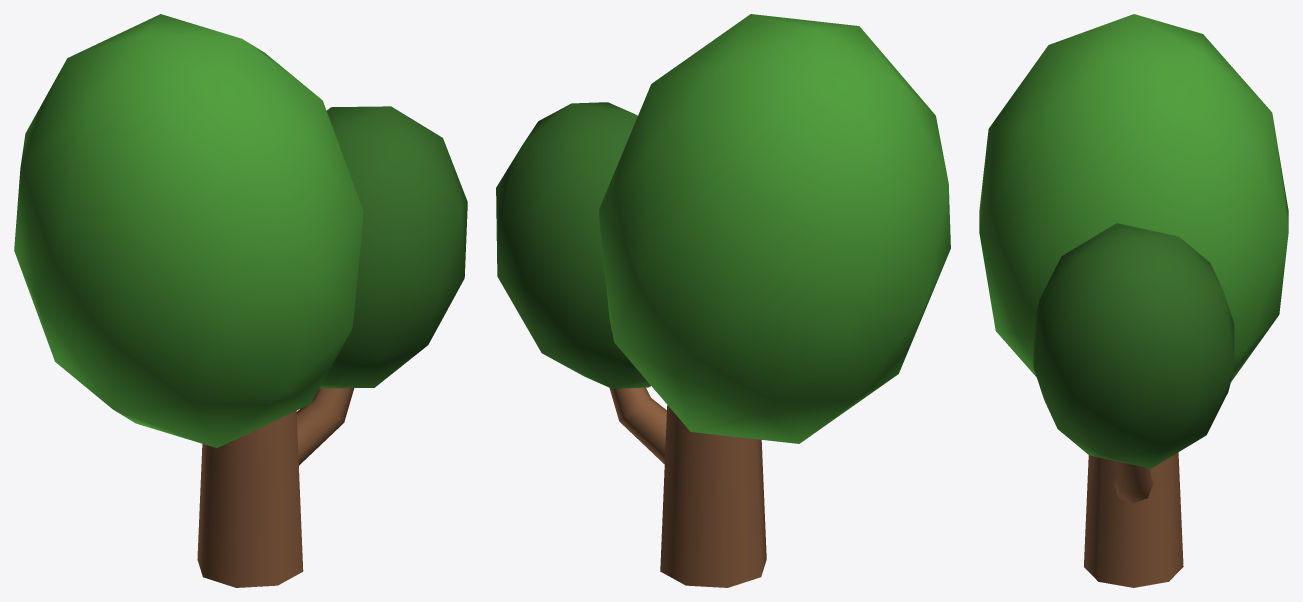
File: Tree-1.fbx
The picture shows the model from 3 angles, left to right: view 1: azimuth 30°, elevation 25°; view 2: azimuth 150°, elevation 25°; view 3: azimuth 270°, elevation 25°; orthographic projection. The views are drawn at different scales.
Visible parts, largest first — view 1: Icosphere.335, Icosphere.336, Cylinder.334, Cylinder.335; view 2: Icosphere.335, Icosphere.336, Cylinder.334, Cylinder.335; view 3: Icosphere.335, Icosphere.336, Cylinder.334, Cylinder.335.
Boxes of the visible parts, x1,y1,x2,y2 form: Icosphere.335: [14, 14, 363, 447]; Icosphere.336: [319, 106, 467, 388]; Cylinder.334: [197, 411, 303, 587]; Cylinder.335: [296, 388, 354, 465]; Icosphere.335: [599, 14, 950, 443]; Icosphere.336: [496, 102, 650, 388]; Cylinder.334: [660, 405, 766, 587]; Cylinder.335: [609, 387, 666, 463]; Icosphere.335: [979, 14, 1288, 381]; Icosphere.336: [1033, 223, 1234, 468]; Cylinder.334: [1084, 452, 1183, 587]; Cylinder.335: [1113, 461, 1153, 503].
Bounding box in the file's own units: 61.58 × 79.09 × 43.77.
